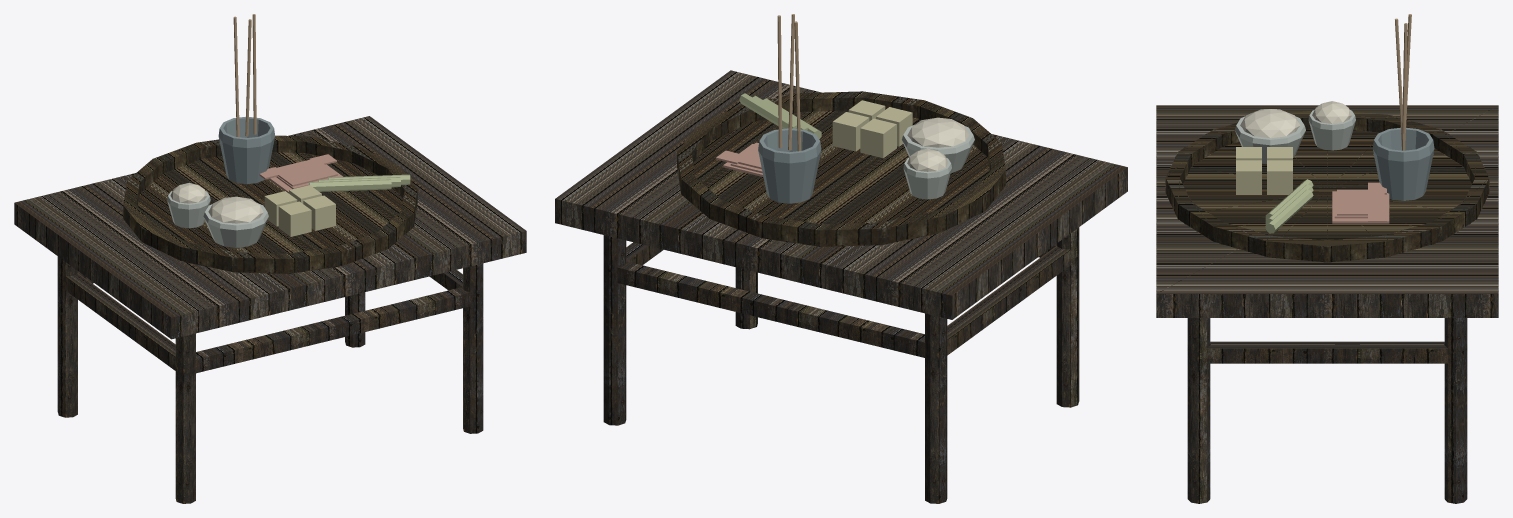
File: altar_tray_offerings_reduced.glb
The picture shows the model from 3 angles, left to right: view 1: azimuth 30°, elevation 25°; view 2: azimuth 150°, elevation 25°; view 3: azimuth 270°, elevation 25°; orthographic projection. The views are drawn at different scales.
Visible parts, largest first — view 1: TableFrame, WovenTray, IncensePot, Cakes, RiceAndSaltBowls, RiceAndSalt, PaperClothes, Sugarcane, Incense; view 2: TableFrame, WovenTray, IncensePot, Cakes, RiceAndSaltBowls, RiceAndSalt, Incense, Sugarcane, PaperClothes; view 3: TableFrame, WovenTray, IncensePot, Cakes, RiceAndSaltBowls, PaperClothes, RiceAndSalt, Incense, Sugarcane.
Boxes of the visible parts, x1,y1,x2,y2 form: TableFrame: (14,116,526,503); WovenTray: (123,135,417,273); IncensePot: (218,116,275,184); Cakes: (264,185,335,236); RiceAndSaltBowls: (167,191,268,247); RiceAndSalt: (170,182,263,223); PaperClothes: (259,154,343,193); Sugarcane: (309,174,410,191); Incense: (233,14,256,137); TableFrame: (555,70,1127,503); WovenTray: (677,91,1005,246); IncensePot: (758,128,821,203); Cakes: (832,100,912,158); RiceAndSaltBowls: (902,124,974,199); RiceAndSalt: (907,117,969,171); Incense: (777,14,801,151); Sugarcane: (739,93,821,139); PaperClothes: (716,142,763,177); TableFrame: (1156,105,1498,503); WovenTray: (1165,111,1489,262); IncensePot: (1372,127,1434,200); Cakes: (1236,147,1292,194); RiceAndSaltBowls: (1235,110,1355,163); PaperClothes: (1332,182,1389,223); RiceAndSalt: (1240,101,1352,138); Incense: (1395,14,1411,150); Sugarcane: (1265,179,1313,233).
Bounding box in the file's own units: 0.94 × 0.9502 × 0.72.
Materials: 9 (2 with a texture image).
